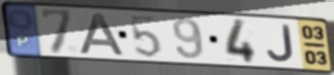4: (222, 17, 259, 65)
5: (128, 14, 164, 59)
7: (39, 6, 75, 56)
9: (171, 16, 206, 61)
A: (77, 11, 128, 57)
J: (266, 23, 297, 63)
